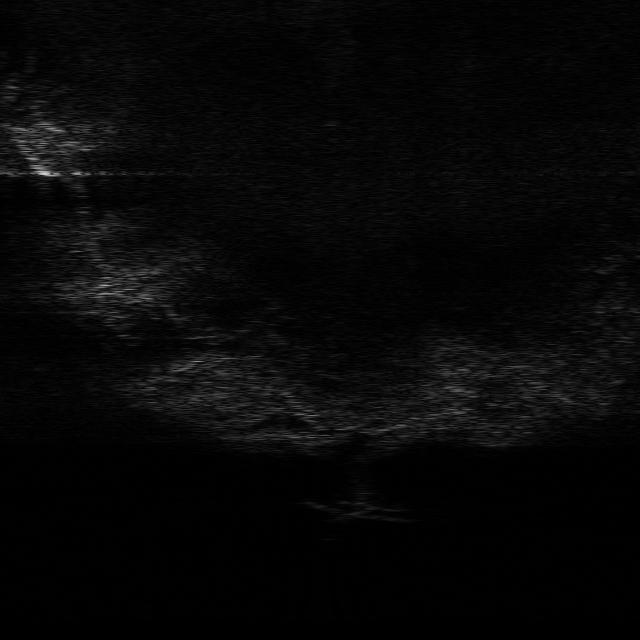plane: (302, 496, 408, 525)
